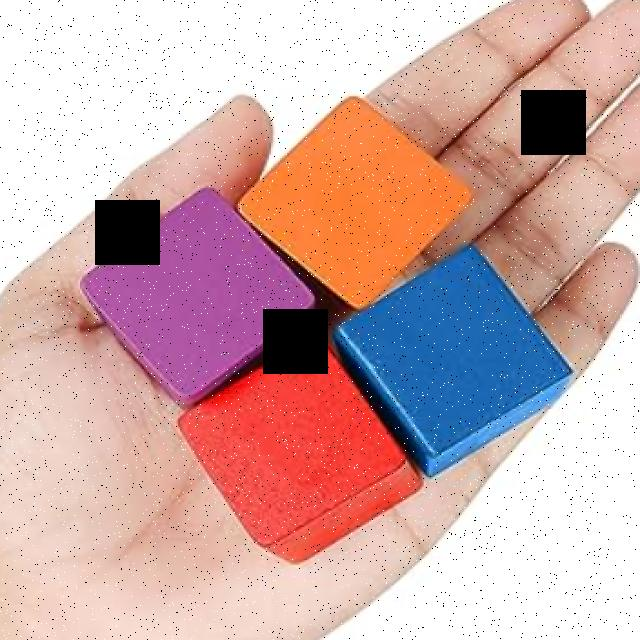bluecube: (335, 243, 573, 476)
red cube: (171, 332, 423, 566)
